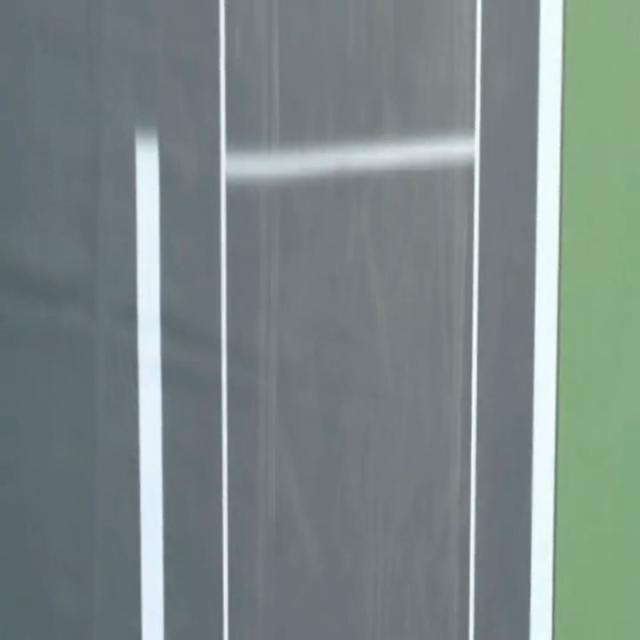center: (136, 133, 164, 639)
right: (529, 0, 563, 639)
